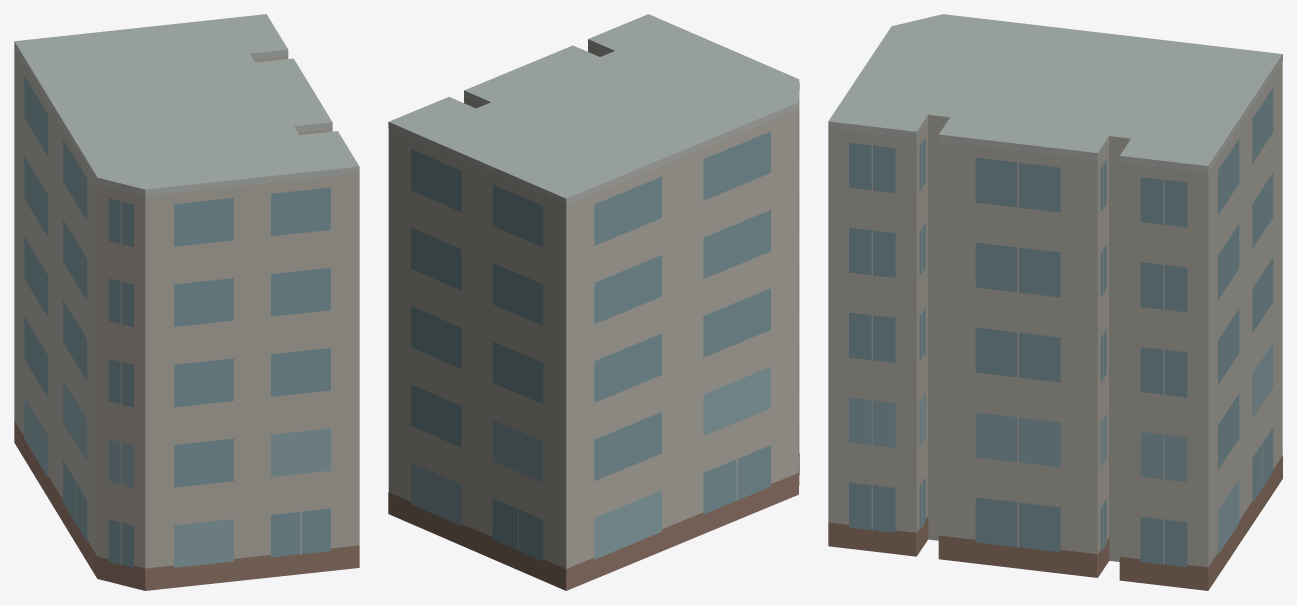
The model's file is survey-upis-32624720.glb.
3 views of the same model, side by side, from view 1: azimuth 30°, elevation 25°; view 2: azimuth 150°, elevation 25°; view 3: azimuth 270°, elevation 25° (orthographic). The views are drawn at different scales.
Parts seen in each view (by area): view 1: survey-upis-32624720.tmp; view 2: survey-upis-32624720.tmp; view 3: survey-upis-32624720.tmp.
Part boxes in pixels (x1,y1,x2,y2): survey-upis-32624720.tmp: [14, 14, 359, 590]; survey-upis-32624720.tmp: [388, 14, 799, 590]; survey-upis-32624720.tmp: [828, 14, 1282, 590].
Size of the model in its own units: 11.34 by 14.75 by 14.31.
